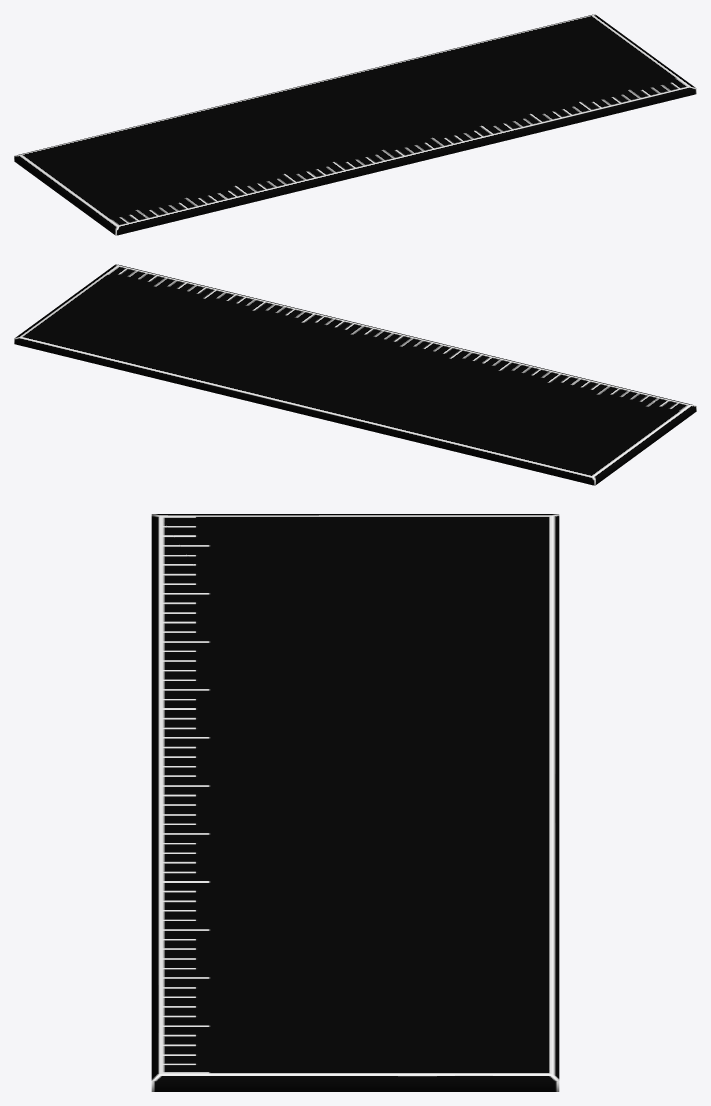
Rendered from scale.fbx.
The picture shows the model from 3 angles, top to bottom: view 1: azimuth 30°, elevation 25°; view 2: azimuth 150°, elevation 25°; view 3: azimuth 270°, elevation 25°; orthographic projection. The views are drawn at different scales.
Visible parts, largest first — view 1: pCube1; view 2: pCube1; view 3: pCube1.
Part boxes in pixels (left/top/right/bottom): pCube1: left=14, top=14, right=696, bottom=235; pCube1: left=14, top=264, right=696, bottom=485; pCube1: left=151, top=514, right=559, bottom=1091.
Bounding box in the file's own units: 10 × 0.1227 × 3.04.
Materials: 1 (1 with a texture image).
